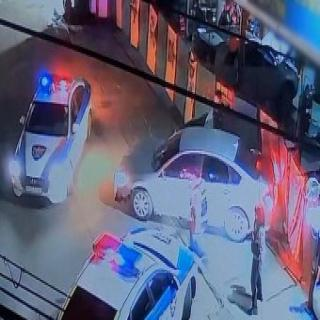Police_car: (55, 224, 197, 320), (9, 72, 93, 206)
